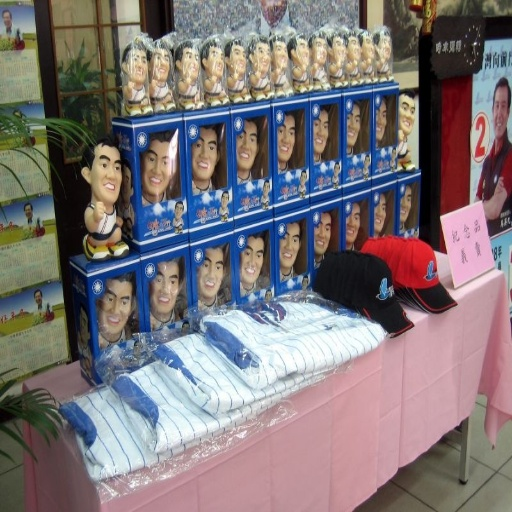hand: (492, 174, 505, 195), (91, 200, 104, 218), (113, 213, 123, 230), (95, 331, 103, 348), (397, 126, 404, 144), (127, 78, 135, 92), (195, 296, 203, 310), (149, 75, 156, 90), (253, 69, 261, 81), (150, 316, 156, 330), (231, 70, 238, 82), (238, 281, 245, 293), (183, 75, 192, 84), (210, 74, 218, 84), (300, 63, 307, 74), (272, 67, 280, 75), (313, 62, 319, 70), (366, 57, 371, 66), (126, 219, 130, 230), (336, 60, 341, 68), (352, 59, 357, 67), (380, 59, 384, 66)
